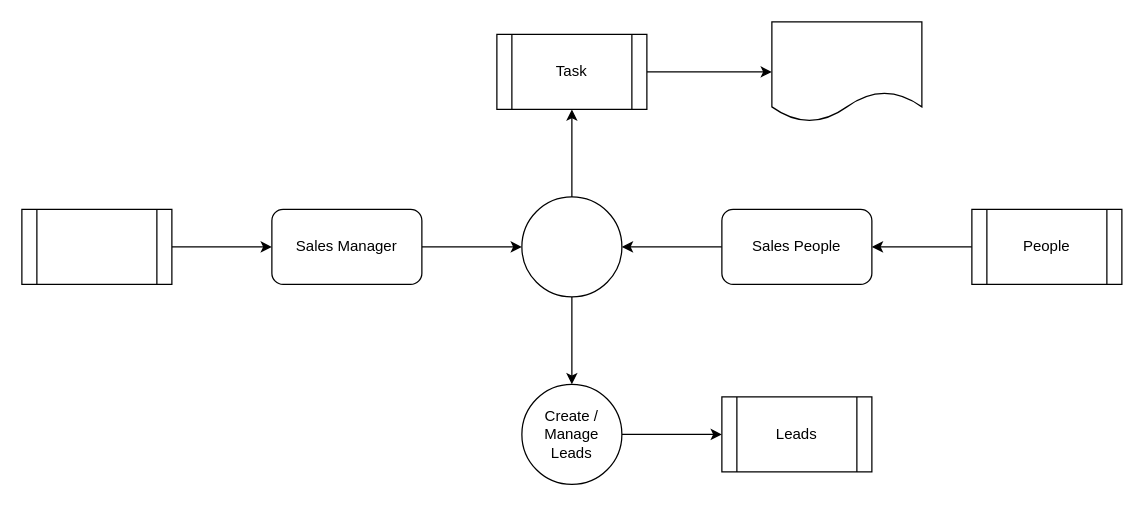
Image size: 1144x506. Some labels were removed from this diagram. The shapes that lost their labels are listed below. From the top down, each one's centre as x and y in pixels, then its label:
(846,71): Report
(96,246): Manager
(571,246): Create / Manage Task
